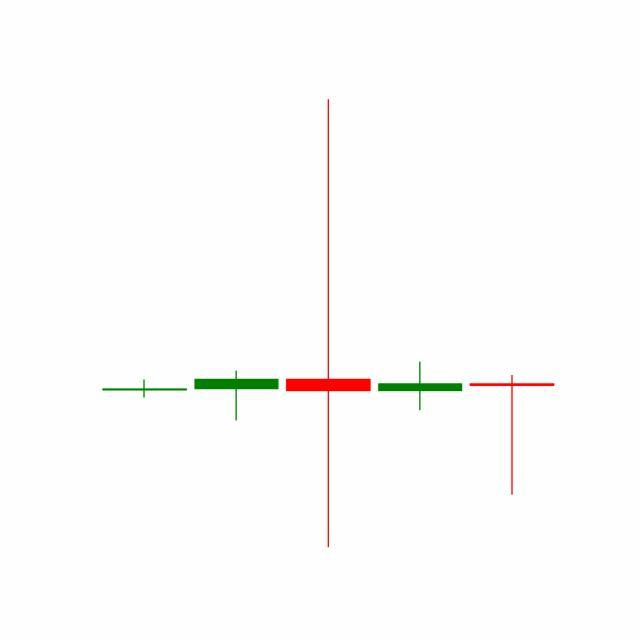Hanging Man: (466, 375, 559, 498)
